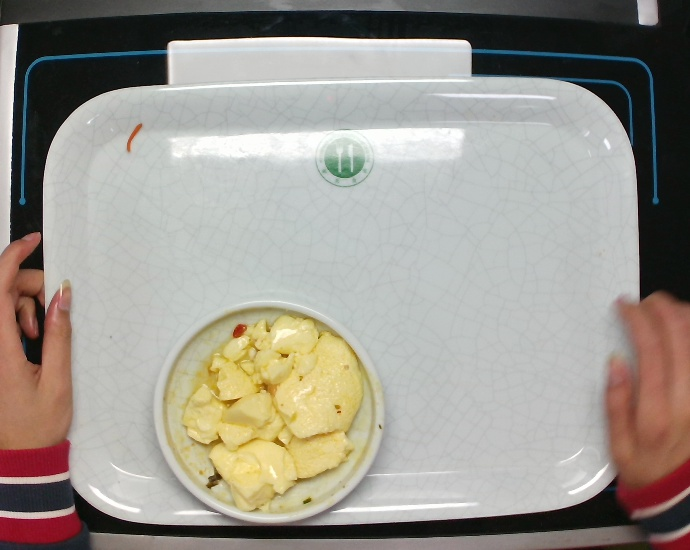JYsf-Xiao_Yuan_Pan: (151, 296, 389, 527)
